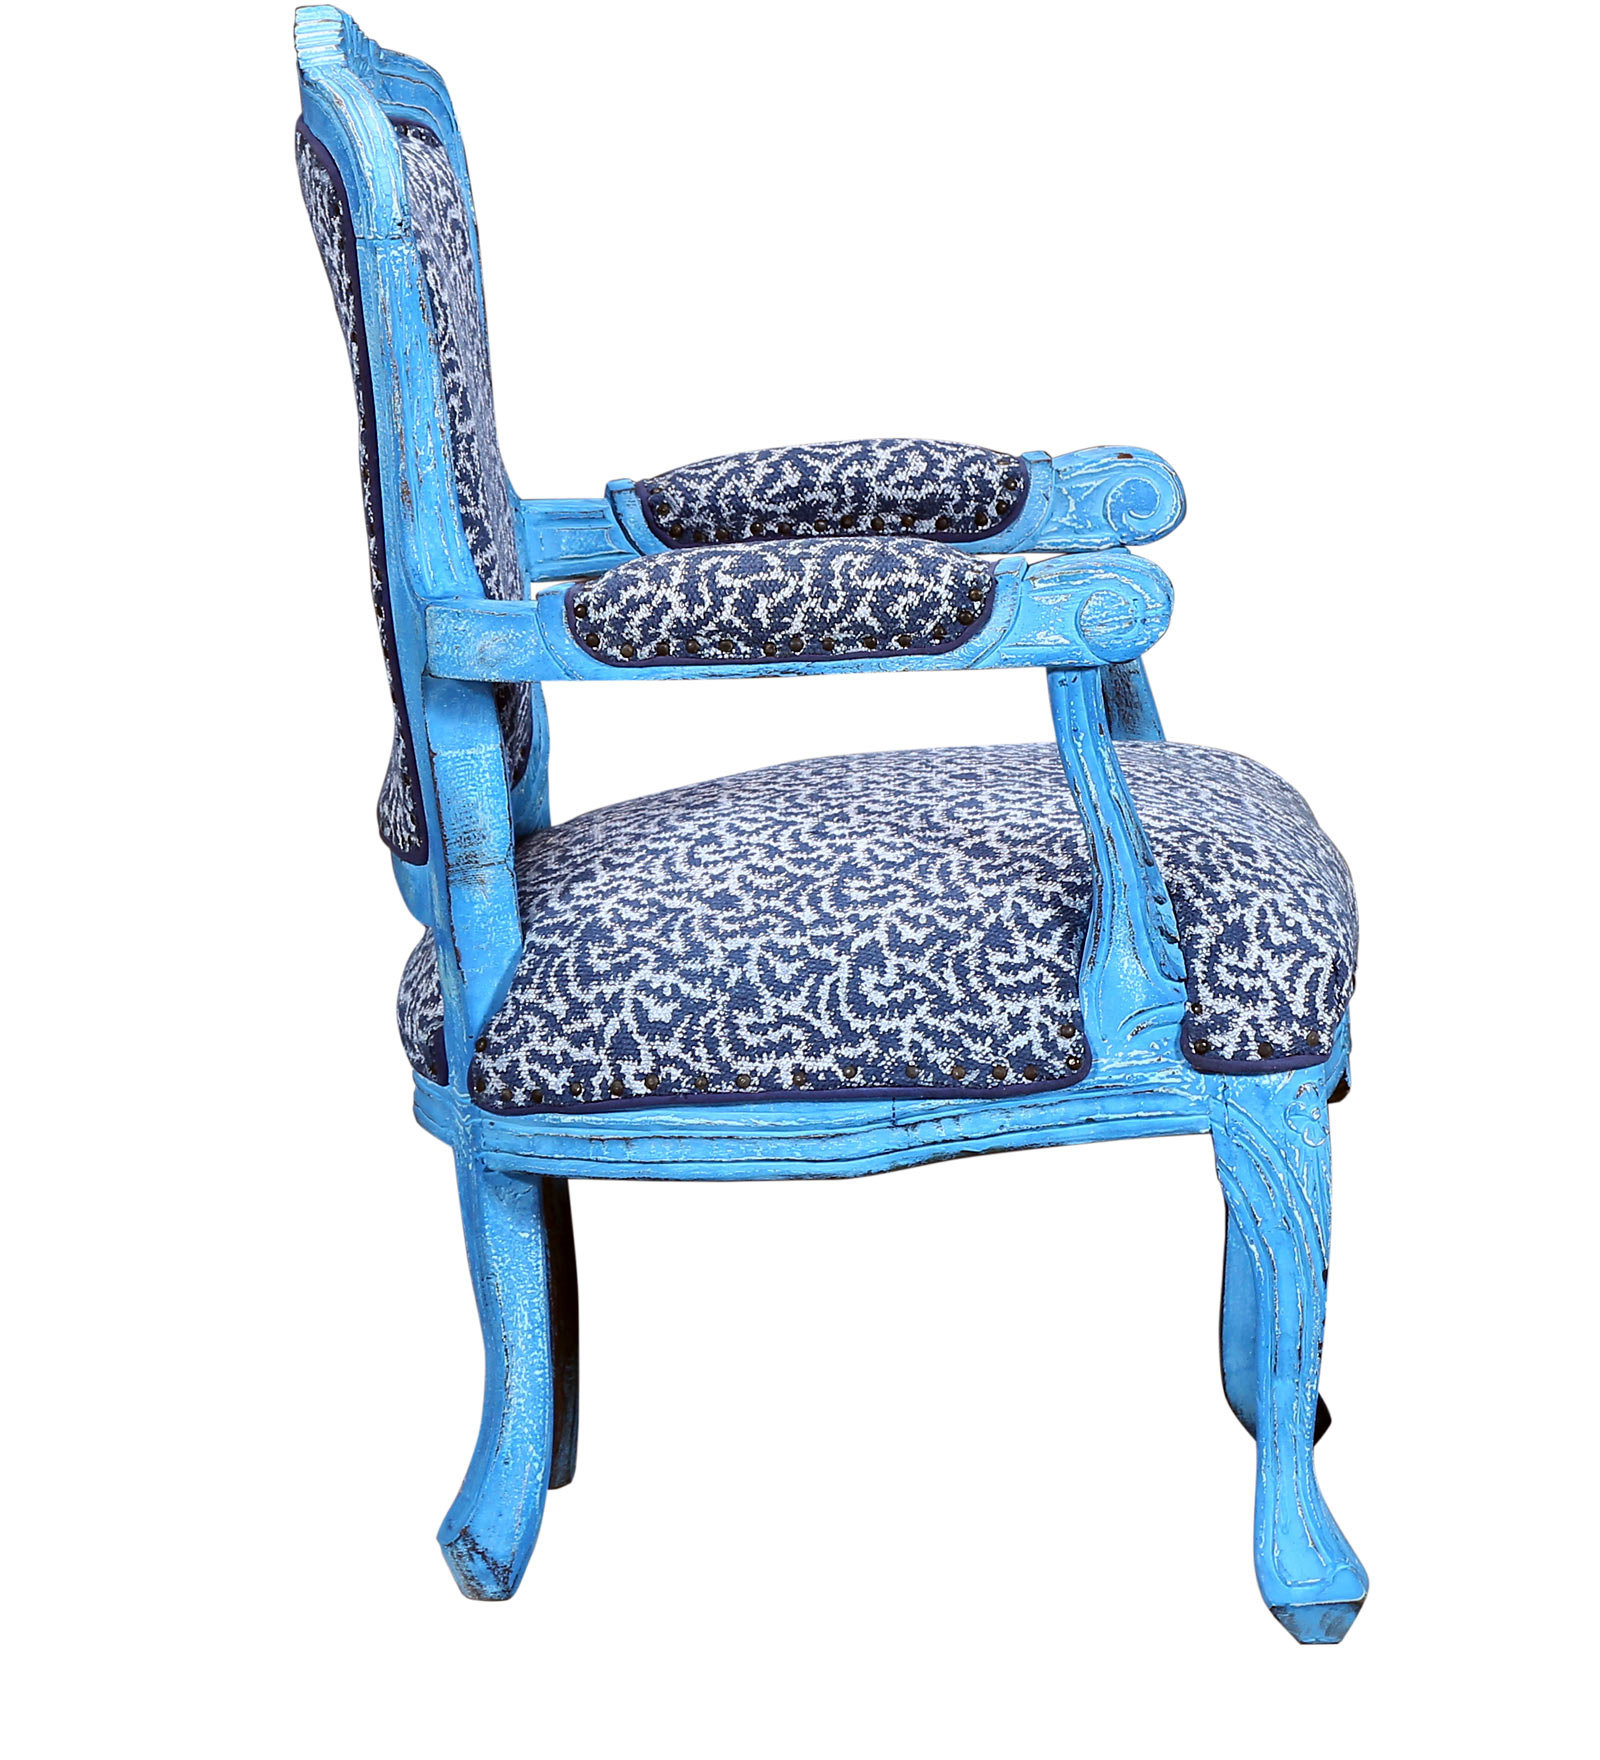Elton Arm Chair in Blue Colour by Bohemiana: (224, 5, 1471, 1671)
